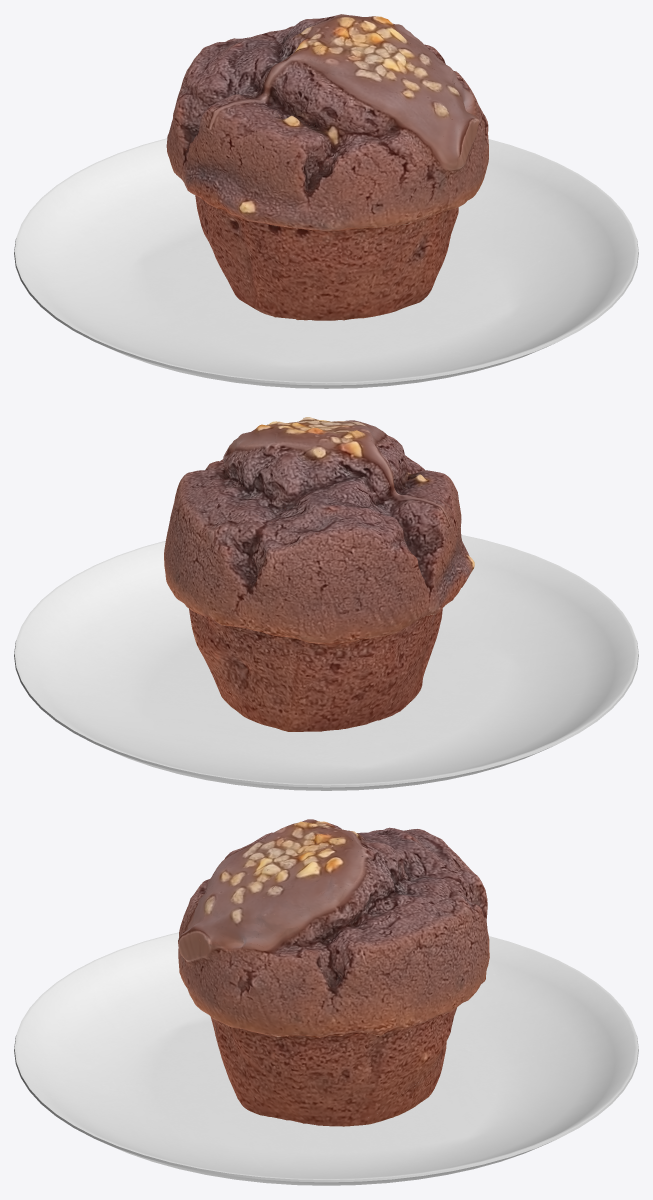
File: MDL_Muffin_AR.glb
The picture shows the model from 3 angles, top to bottom: view 1: azimuth 30°, elevation 25°; view 2: azimuth 150°, elevation 25°; view 3: azimuth 270°, elevation 25°; orthographic projection.
Visible parts, largest first — view 1: Plate_Plate_0; view 2: Plate_Plate_0; view 3: Plate_Plate_0.
Boxes of the visible parts, left/top/right/bottom form: Plate_Plate_0: left=14, top=14, right=638, bottom=388; Plate_Plate_0: left=14, top=417, right=638, bottom=790; Plate_Plate_0: left=14, top=819, right=638, bottom=1185.
Bounding box in the file's own units: 6.5 × 3.07 × 6.5.
Materials: 2 (2 with a texture image).
